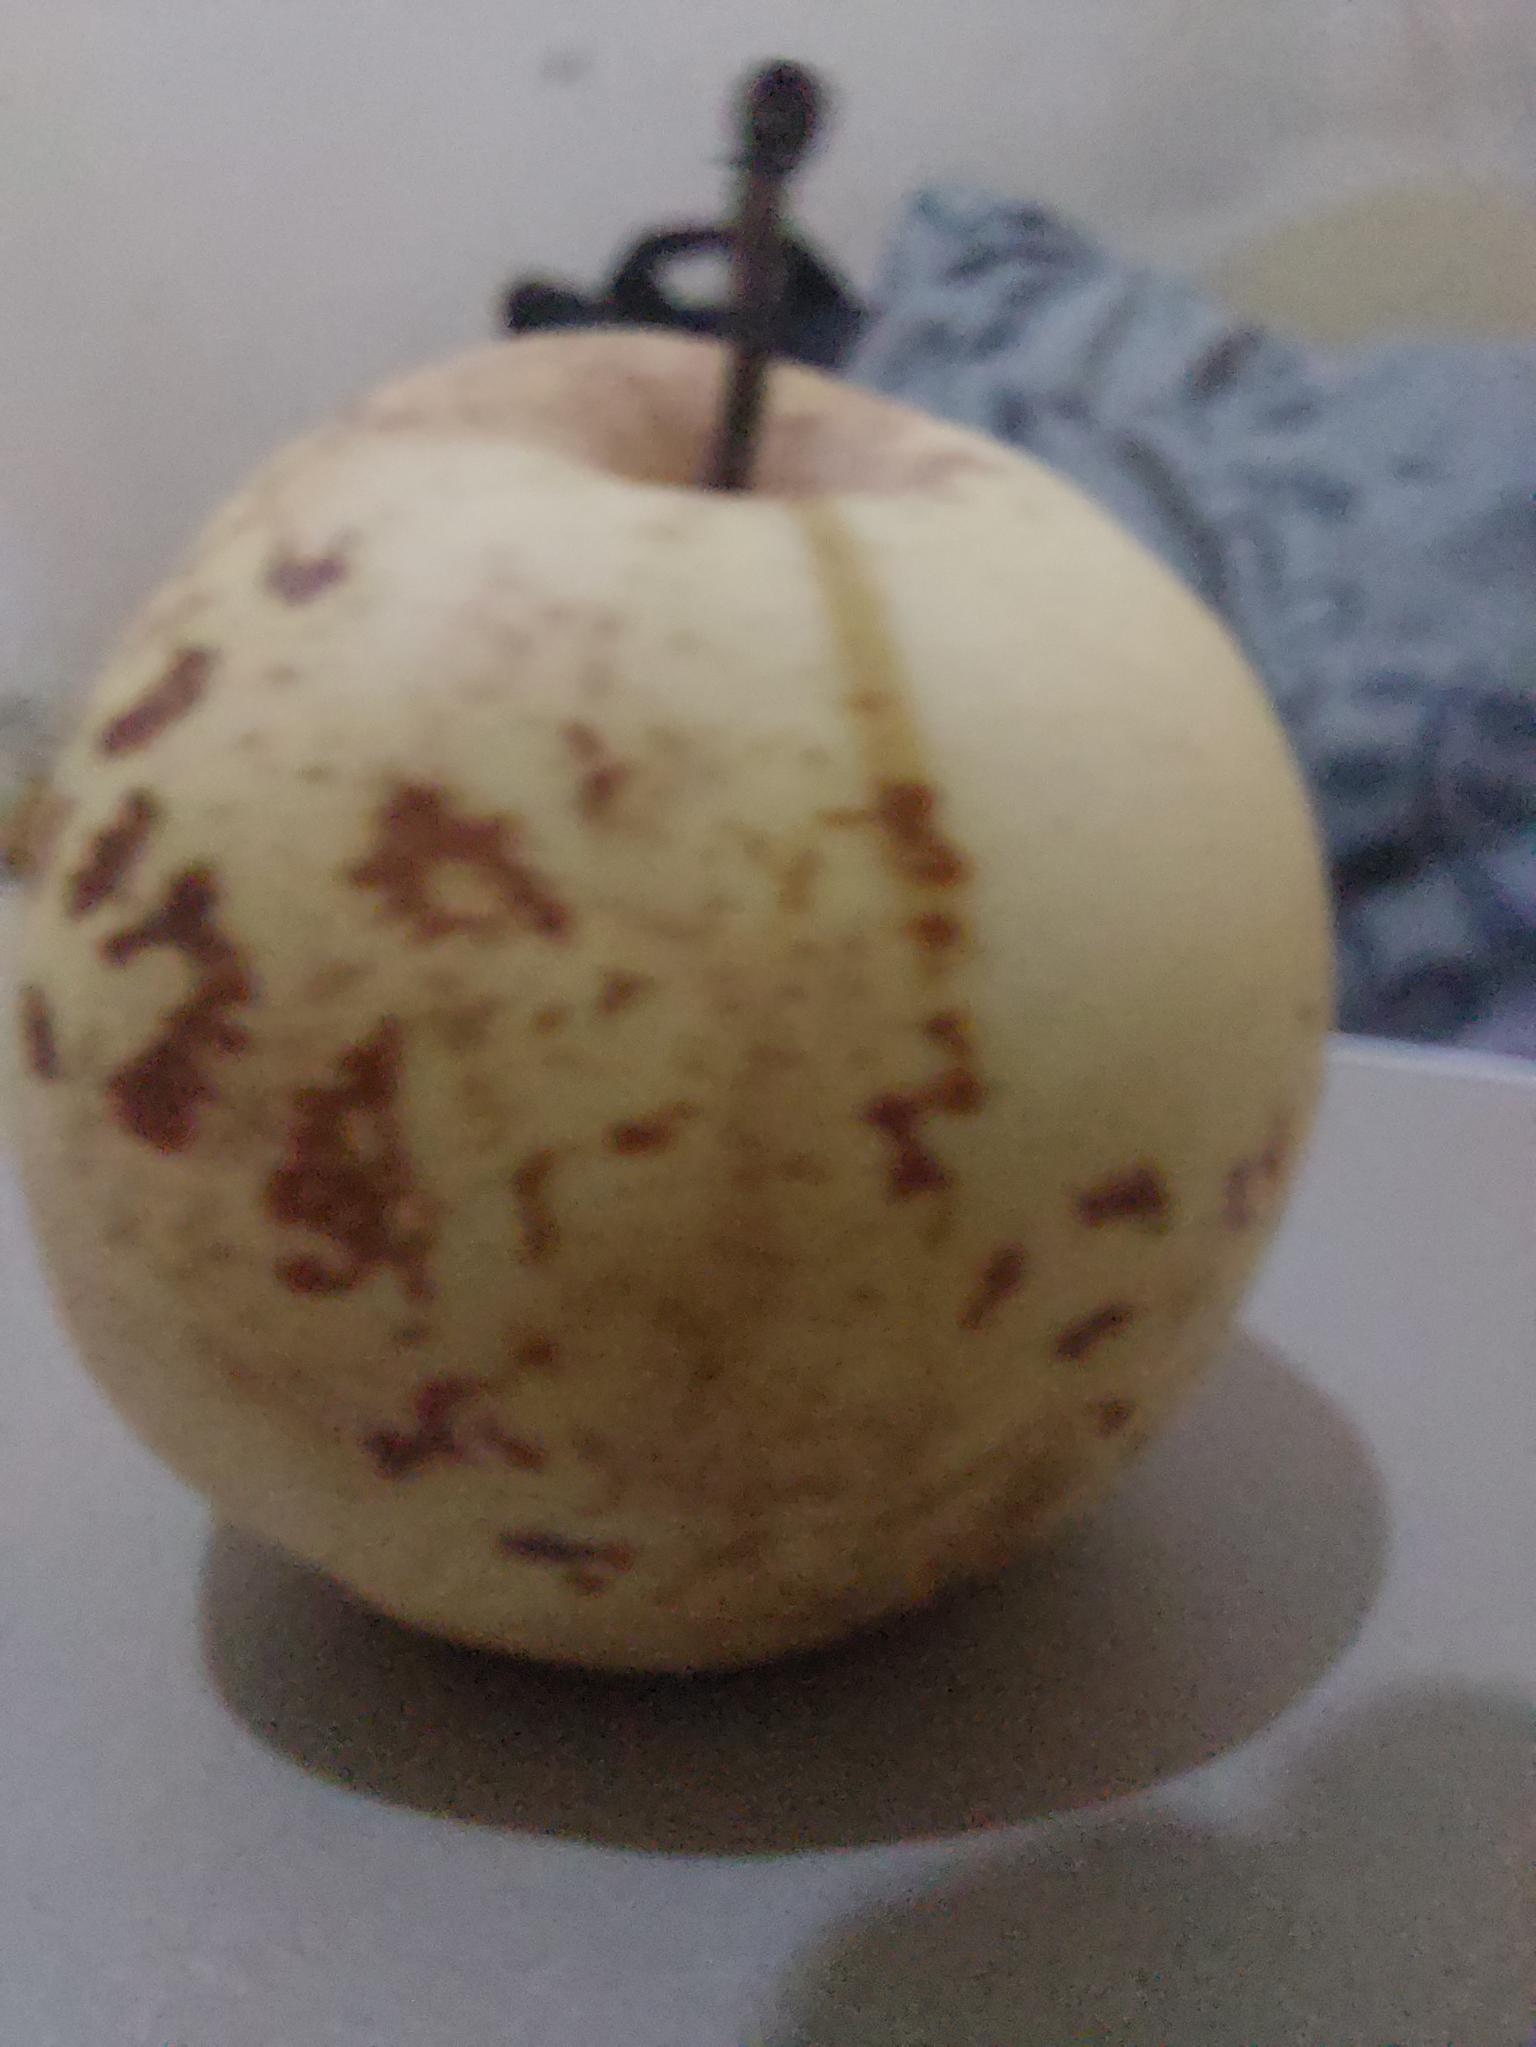Bad Pear: (3, 327, 1368, 1723)
